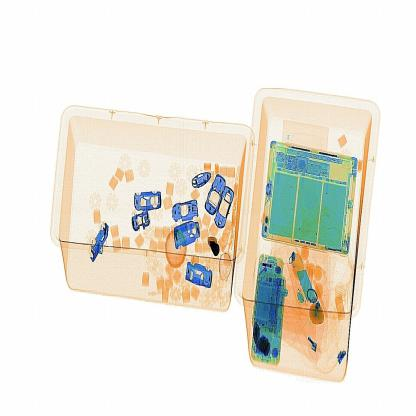wrench: (204, 233, 219, 262)
